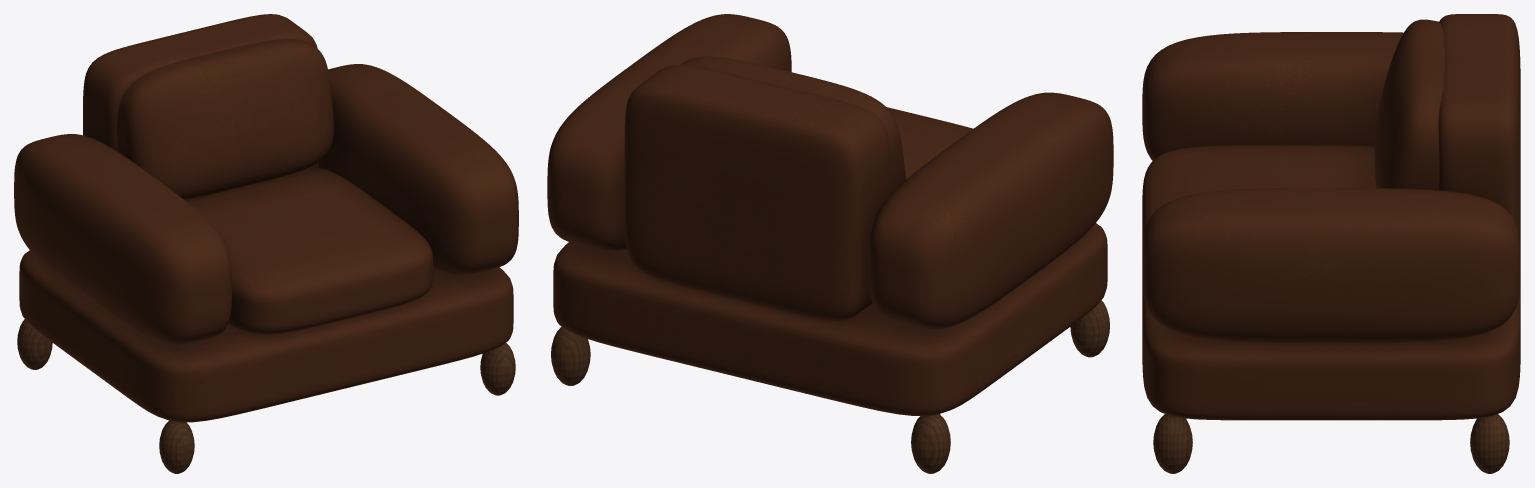
The model's file is club-leather.glb.
3 renders of one model, left to right at view 1: azimuth 30°, elevation 25°; view 2: azimuth 150°, elevation 25°; view 3: azimuth 270°, elevation 25°, orthographic. The views are drawn at different scales.
Parts seen in each view (by area): view 1: fabric_primary, wood_legs; view 2: fabric_primary, wood_legs; view 3: fabric_primary, wood_legs.
Part boxes in pixels (x1,y1,x2,y2): fabric_primary: (14, 14, 518, 422); wood_legs: (17, 319, 515, 473); fabric_primary: (547, 14, 1113, 415); wood_legs: (551, 300, 1109, 473); fabric_primary: (1142, 14, 1520, 420); wood_legs: (1153, 414, 1509, 473).
Size of the model in its own units: 1.11 by 0.8252 by 0.86.
2 materials, 2 textured.
